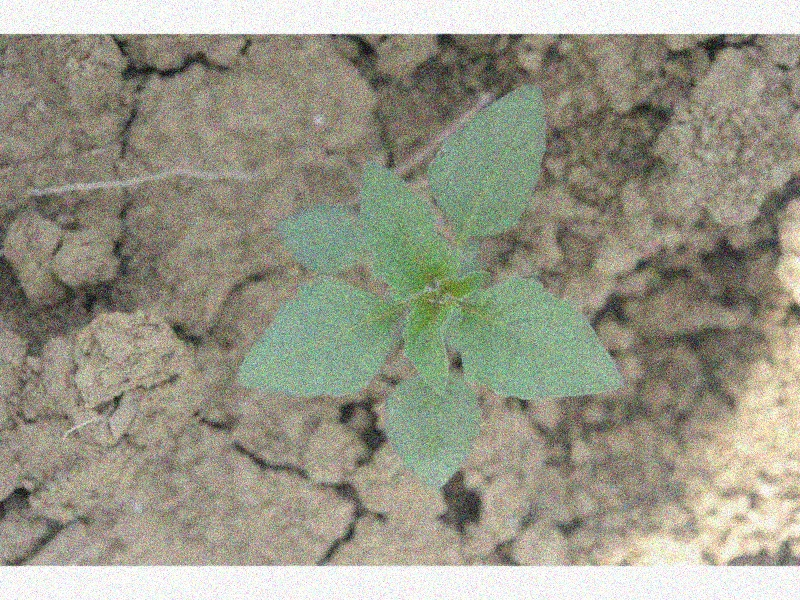nightshade: (236, 81, 621, 488)
